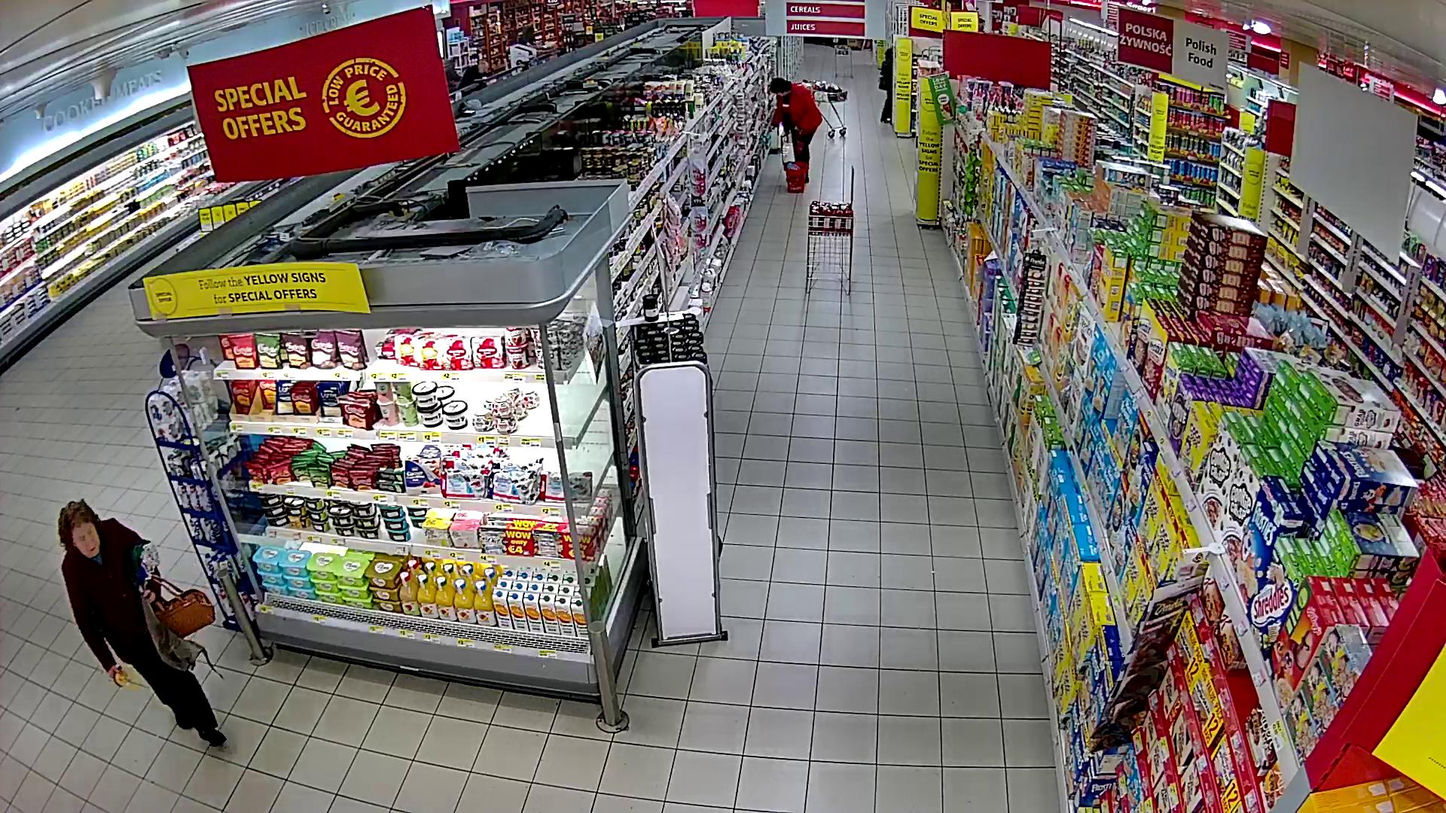backpack-or-handbag: (149, 586, 215, 640)
filled-basket: (782, 157, 809, 194)
person: (58, 497, 225, 749), (771, 77, 822, 183)
person-with-backpack-handbag: (58, 497, 226, 749)
person-with-filled-basket-trolly: (771, 77, 822, 194)
